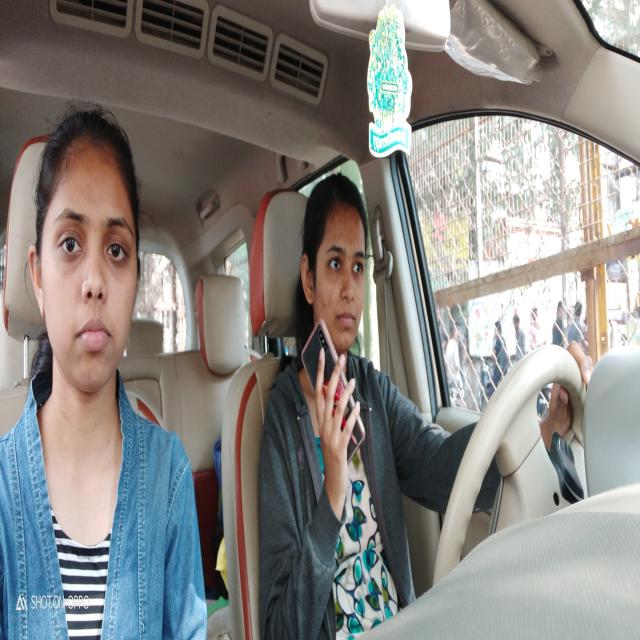mobile: (302, 326, 369, 480)
person: (28, 98, 144, 400), (300, 174, 370, 356)
